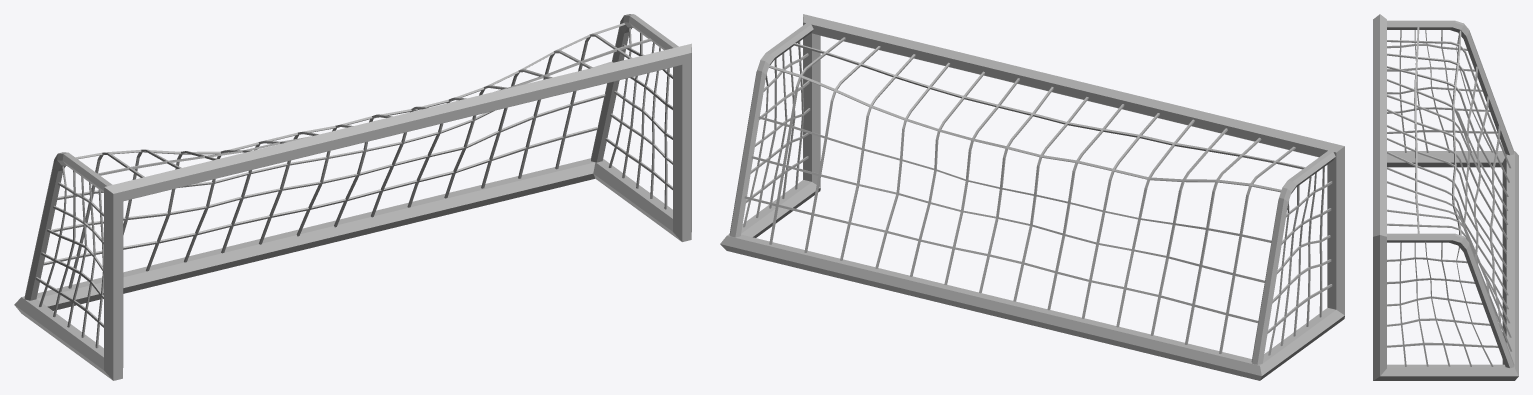
The model's file is Ext_SoccerGoal01.fbx.
3 renders of one model, left to right at view 1: azimuth 30°, elevation 25°; view 2: azimuth 150°, elevation 25°; view 3: azimuth 270°, elevation 25°, orthographic. The views are drawn at different scales.
Visible parts, largest first — view 1: Ext_SoccerGoal01; view 2: Ext_SoccerGoal01; view 3: Ext_SoccerGoal01.
Part boxes in pixels (bbox=[...]): Ext_SoccerGoal01: bbox=[14, 14, 691, 380]; Ext_SoccerGoal01: bbox=[720, 14, 1344, 380]; Ext_SoccerGoal01: bbox=[1373, 14, 1518, 380].
Size of what is drawn, in the model's own units: 733 by 204 by 229.
